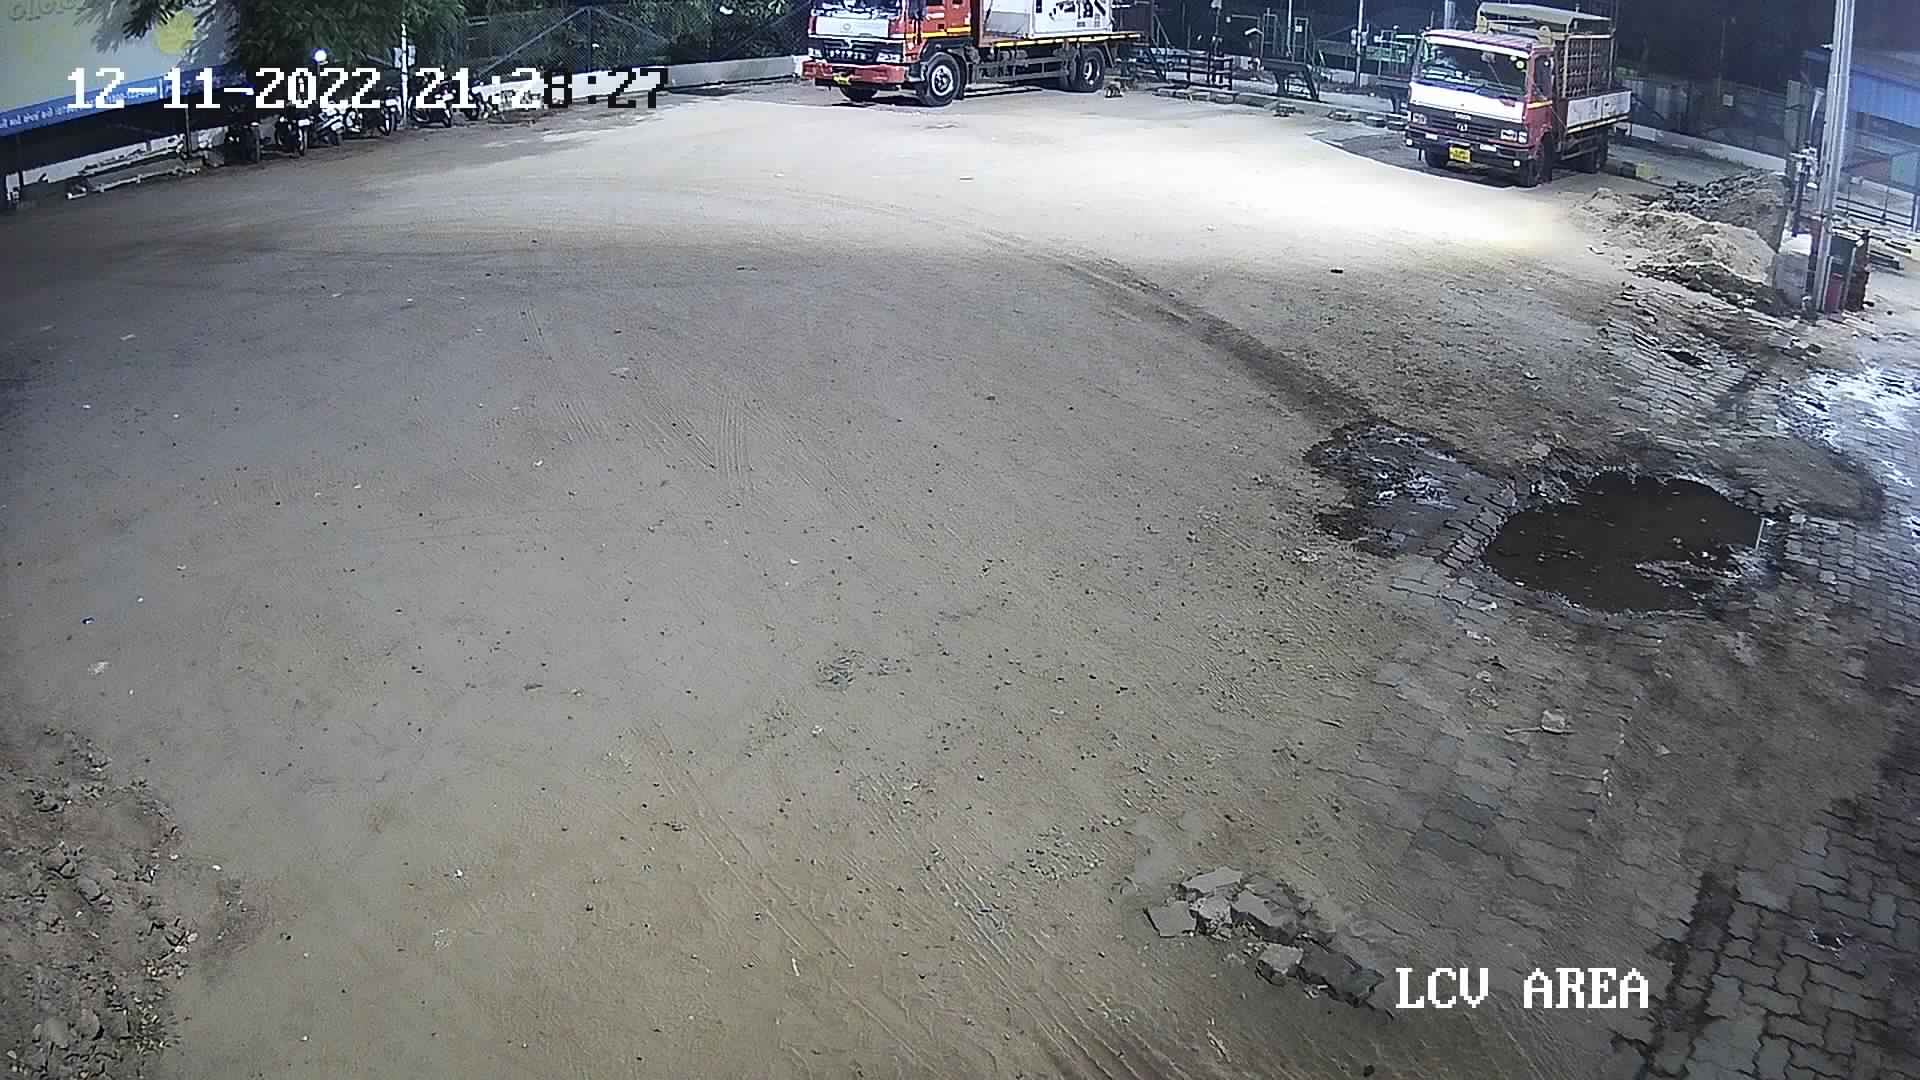HMV: (1383, 0, 1658, 191), (795, 0, 1174, 113)
